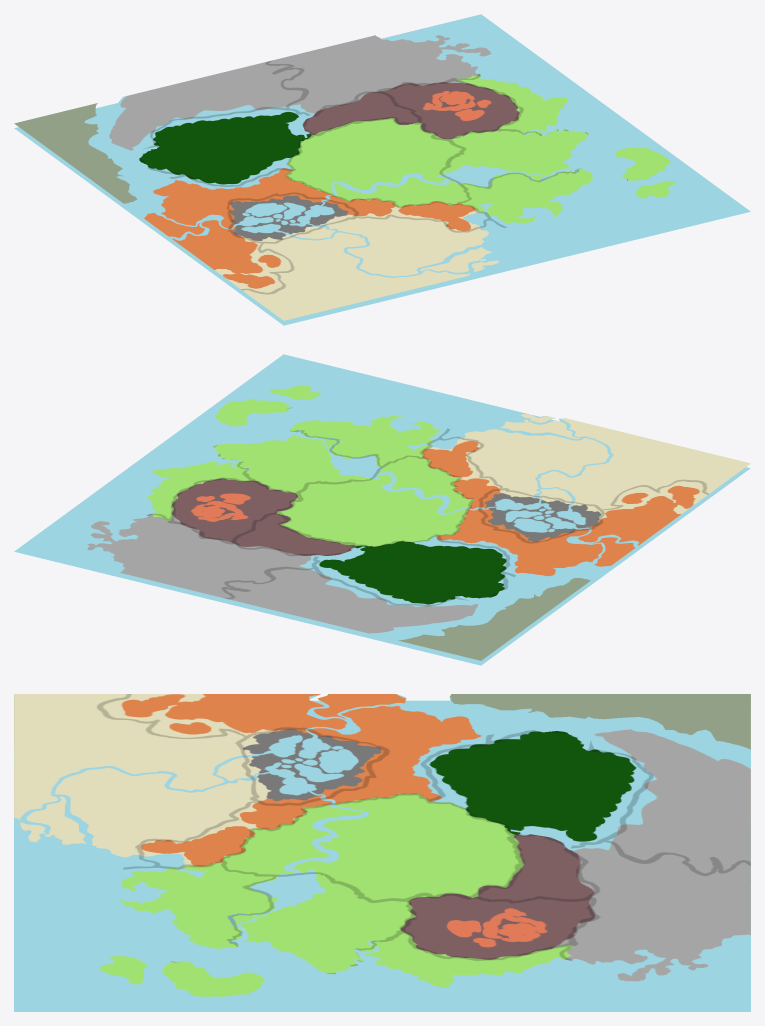
The model's file is Hyrule map flat.fbx.
The picture shows the model from 3 angles, top to bottom: view 1: azimuth 30°, elevation 25°; view 2: azimuth 150°, elevation 25°; view 3: azimuth 270°, elevation 25°; orthographic projection. The views are drawn at different scales.
Parts seen in each view (by area): view 1: Plane, Plane.001; view 2: Plane, Plane.001; view 3: Plane, Plane.001.
Part boxes in pixels (bbox=[...]): Plane: bbox=[14, 35, 675, 320]; Plane.001: bbox=[14, 14, 750, 325]; Plane: bbox=[87, 385, 750, 660]; Plane.001: bbox=[14, 354, 750, 665]; Plane: bbox=[14, 694, 750, 997]; Plane.001: bbox=[14, 700, 750, 1011].
Size of the model in its own units: 2.57 by 0.0253 by 2.57.
